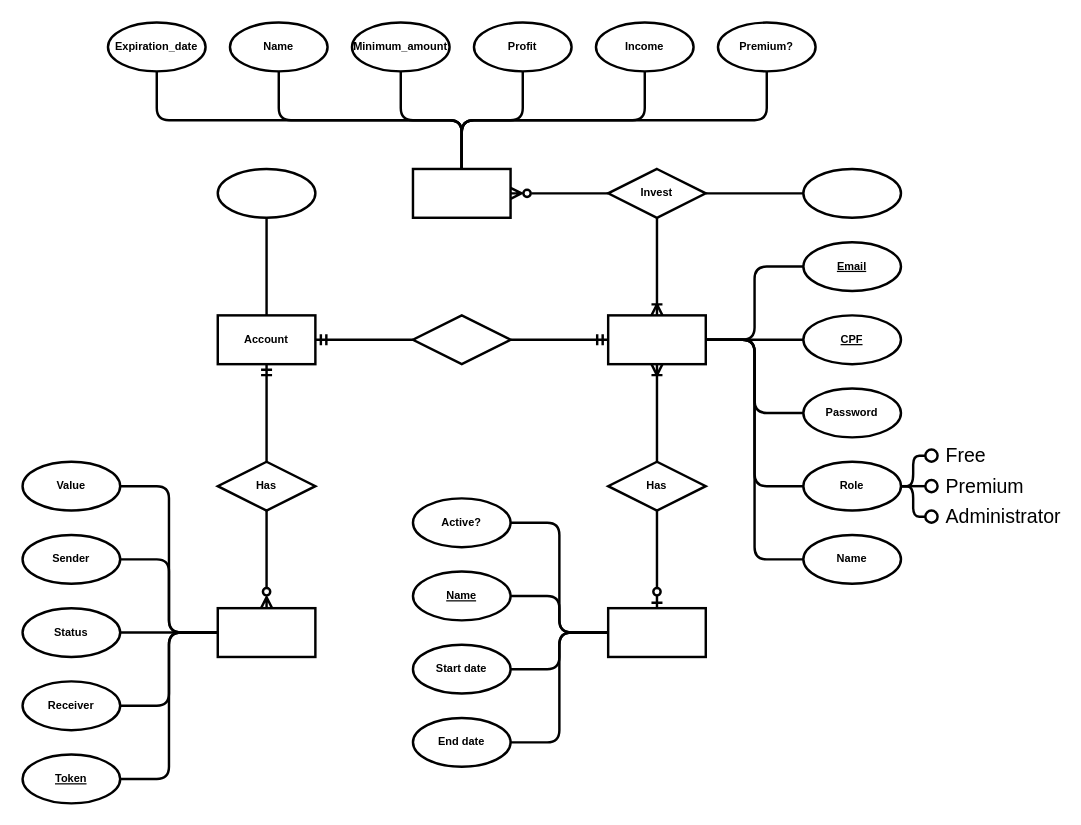
Image size: 1081x825. Some labels were removed from this diagram. The shapes that lost their labels are listed below. From the top down, each one's centre as x and y in pixels, then its label:
At [266,192]: "Balance".
At [461,192]: "Investment".
At [852,192]: "Initial_amount".
At [461,339]: "Attached".
At [656,339]: "User".
At [266,632]: "Transaction".
At [656,632]: "Classroom".
